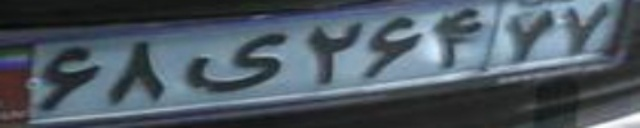2: (306, 20, 358, 86)
4: (432, 8, 482, 68)
6: (36, 47, 99, 110), (364, 18, 422, 77)
7: (503, 10, 554, 61), (565, 2, 607, 56)
8: (105, 40, 161, 101)
ye: (186, 33, 284, 93)
